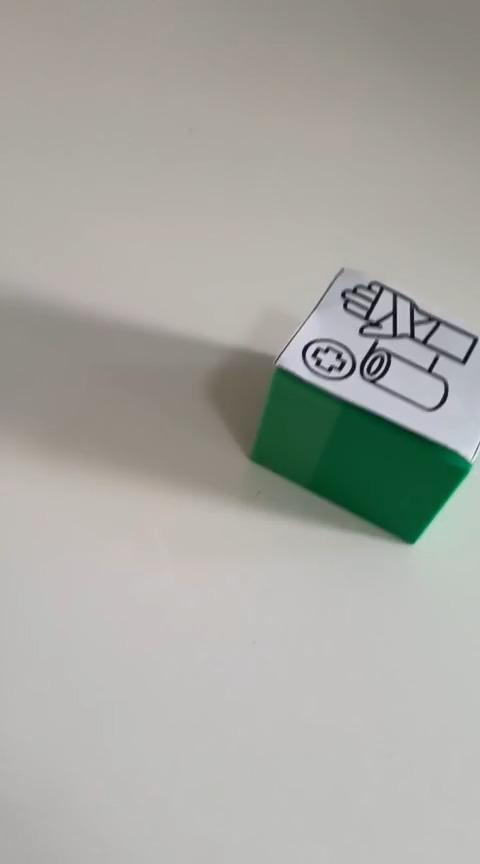Bandages: (247, 265, 478, 544)
